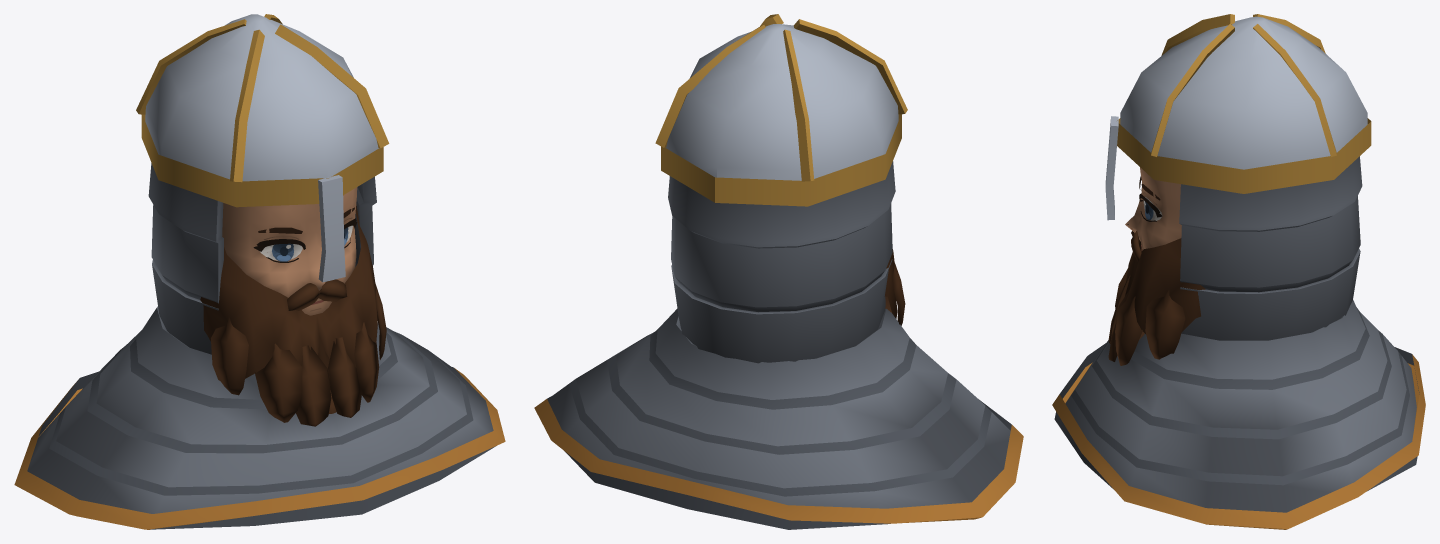
The model's file is h_nasal_d.glb.
3 views of the same model, side by side, from view 1: azimuth 30°, elevation 25°; view 2: azimuth 150°, elevation 25°; view 3: azimuth 270°, elevation 25° (orthographic). The views are drawn at different scales.
Visible parts, largest first — view 1: Nasal, BeardLocks, Beard, HeadMesh, Mustache; view 2: Nasal; view 3: Nasal, BeardLocks, Beard, HeadMesh.
Part boxes in pixels (box(x1,y1,x2,y2)): Nasal: box(14, 14, 505, 529); BeardLocks: box(211, 281, 386, 426); Beard: box(200, 205, 377, 378); HeadMesh: box(222, 187, 357, 315); Mustache: box(287, 279, 347, 310); Nasal: box(534, 14, 1023, 529); Nasal: box(1052, 14, 1425, 529); BeardLocks: box(1108, 268, 1185, 365); Beard: box(1125, 238, 1205, 333); HeadMesh: box(1125, 167, 1181, 250).
Size of the model in its own units: 0.5528 by 0.5052 by 0.4168.
